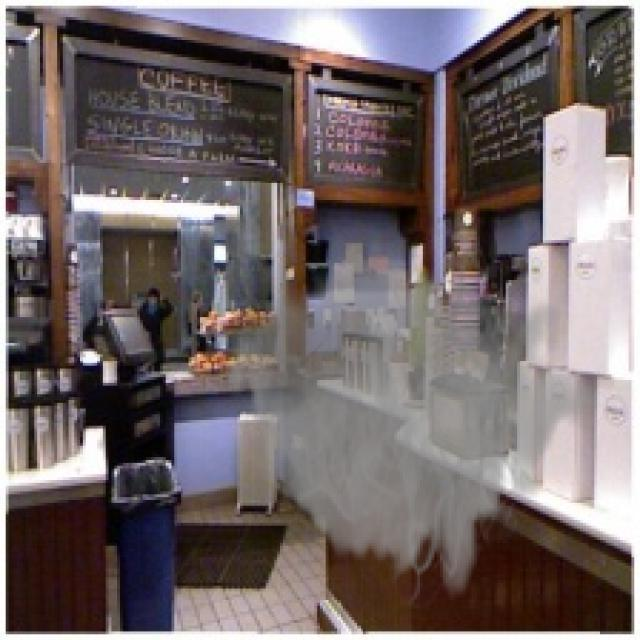Smoke: (223, 208, 600, 612)
